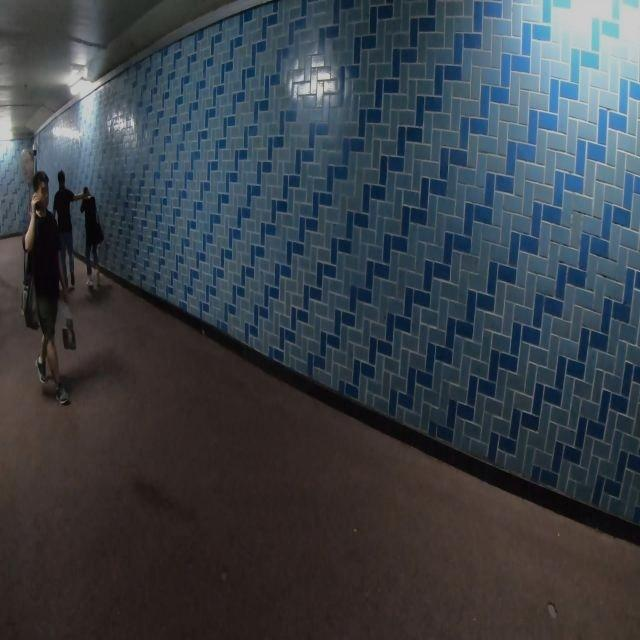fight: (49, 169, 107, 304)
non-fight: (21, 172, 77, 405)
